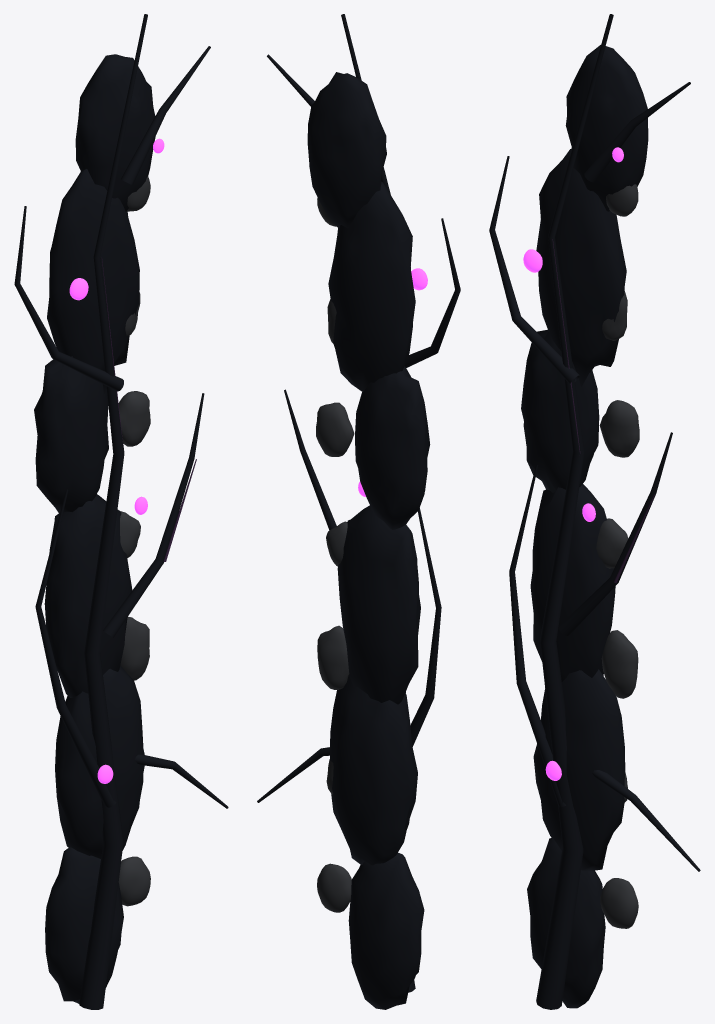
Rendered from SM_Eclipse_KIT_Z08PylonGrowth.fbx.
3 renders of one model, left to right at view 1: azimuth 30°, elevation 25°; view 2: azimuth 150°, elevation 25°; view 3: azimuth 330°, elevation 25°, orthographic. The views are drawn at different scales.
Visible parts, largest first — view 1: SM_Eclipse_KIT_Z08PylonGrowth; view 2: SM_Eclipse_KIT_Z08PylonGrowth; view 3: SM_Eclipse_KIT_Z08PylonGrowth.
Boxes of the visible parts, left/top/right/bottom form: SM_Eclipse_KIT_Z08PylonGrowth: left=14, top=14, right=228, bottom=1009; SM_Eclipse_KIT_Z08PylonGrowth: left=257, top=14, right=460, bottom=1009; SM_Eclipse_KIT_Z08PylonGrowth: left=489, top=14, right=700, bottom=1009.
Size of the model in its own units: 155 by 46.27 by 700.
